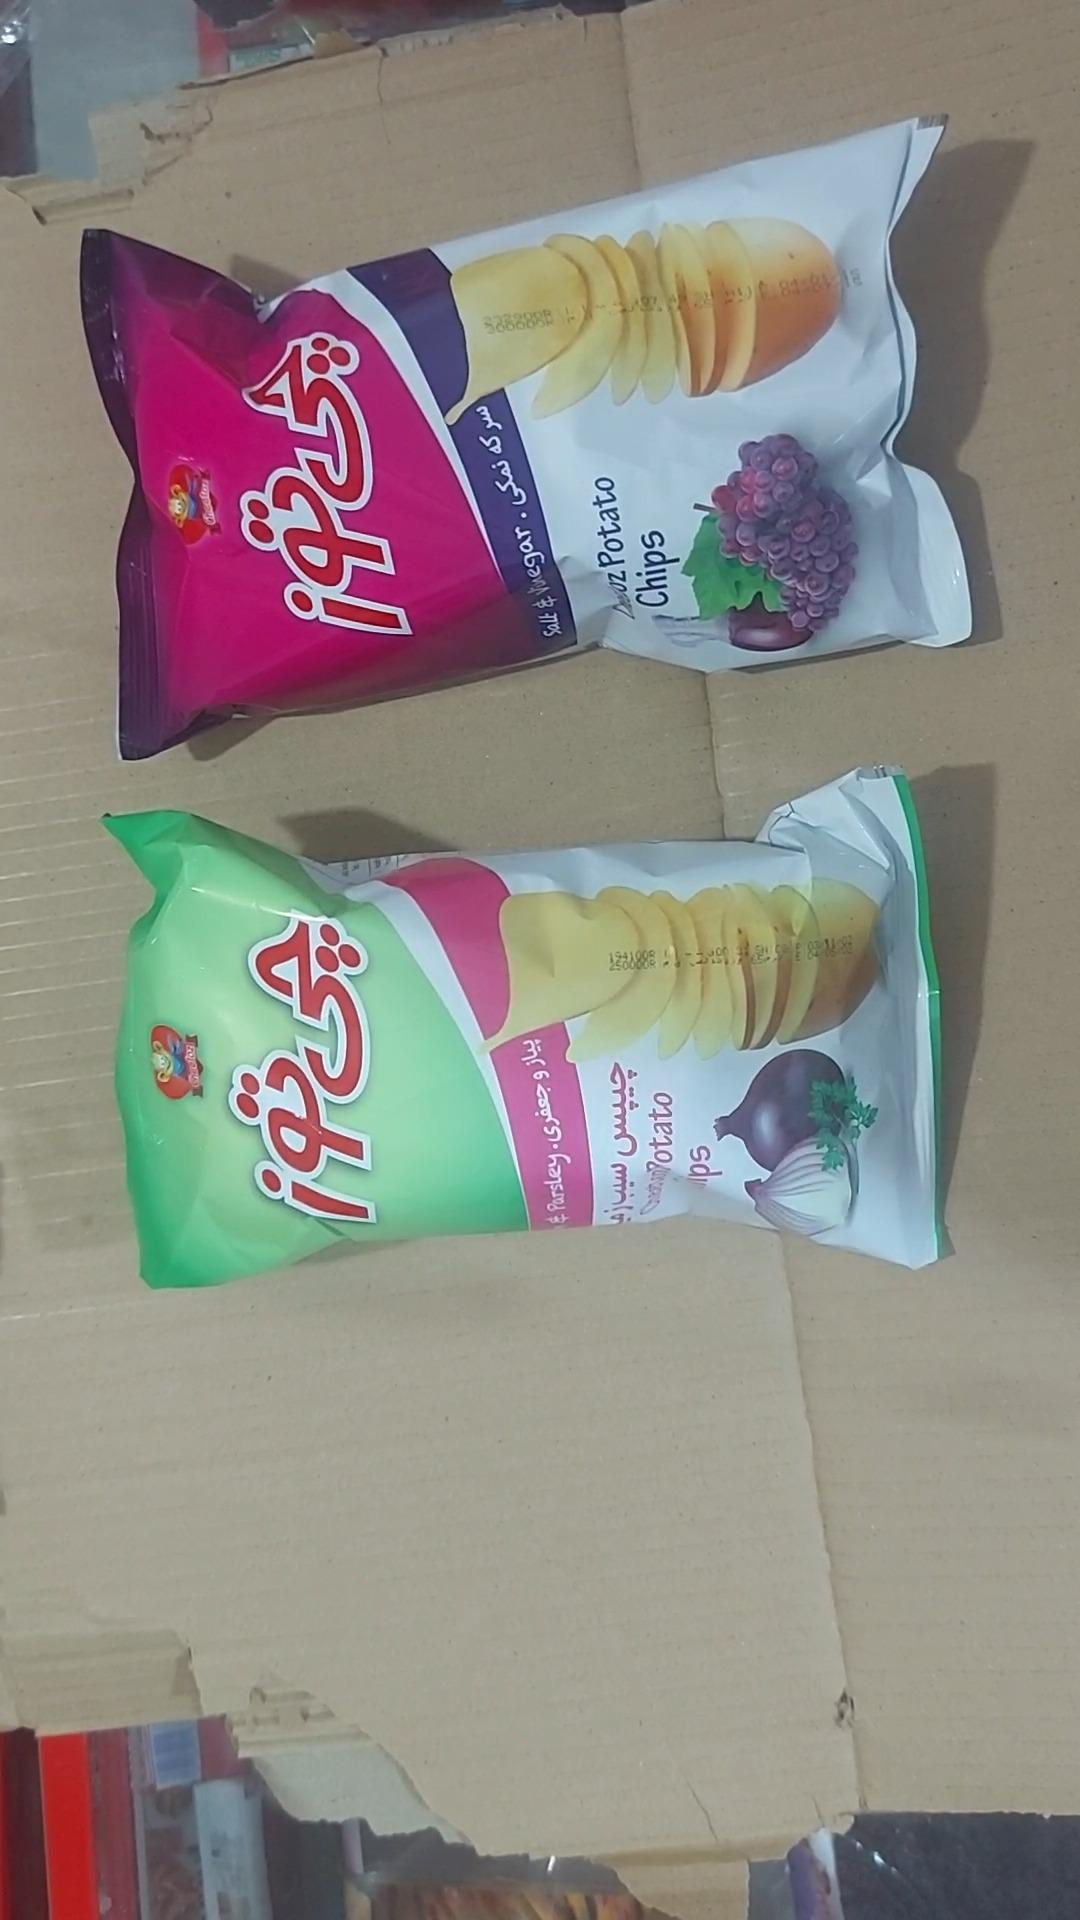Cheetoz onion and parsley chips: (105, 767, 944, 1287)
Cheetoz vinegar chips: (80, 120, 971, 760)
